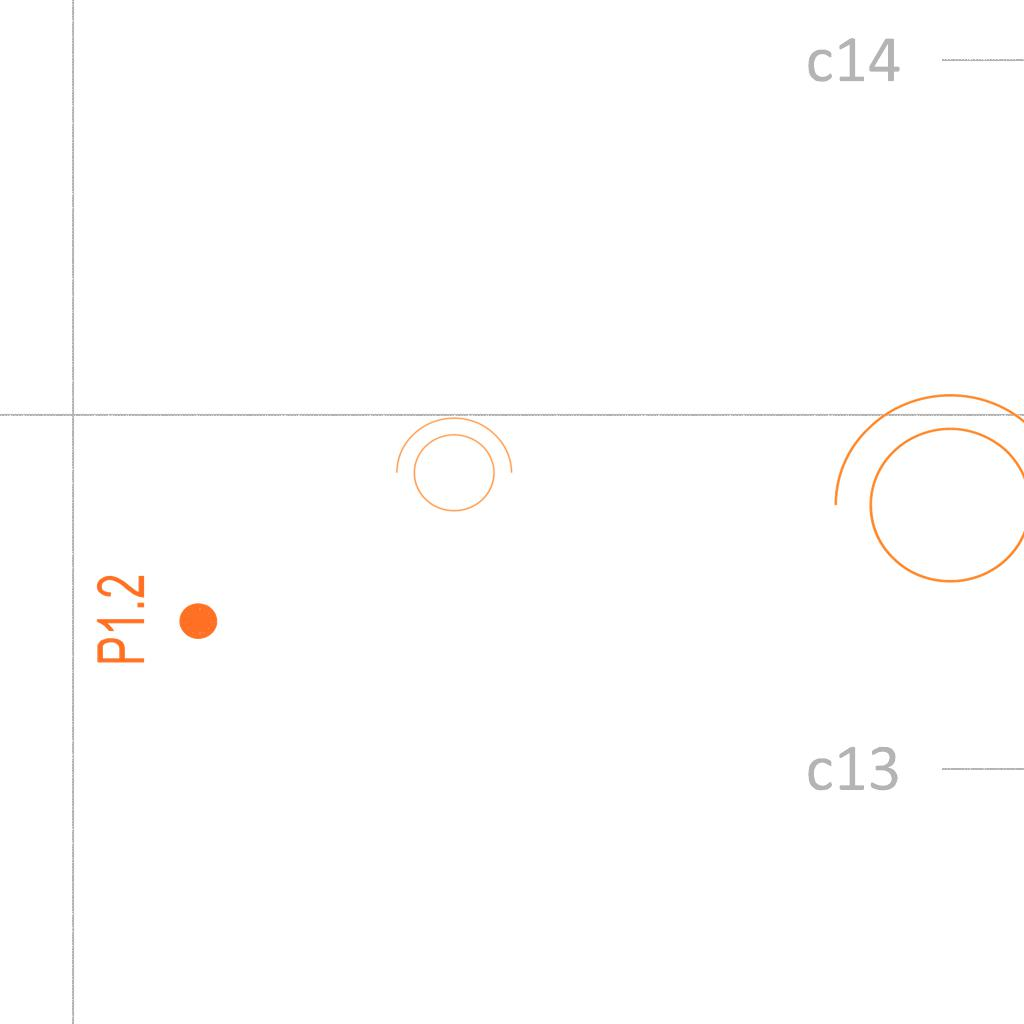Downlight_LED_Einbauleuchten_Flur: (93, 573, 221, 666)
Scheinwerfer_fuer_Alarmbeleuchtung: (812, 383, 1024, 608), (385, 412, 517, 524)
